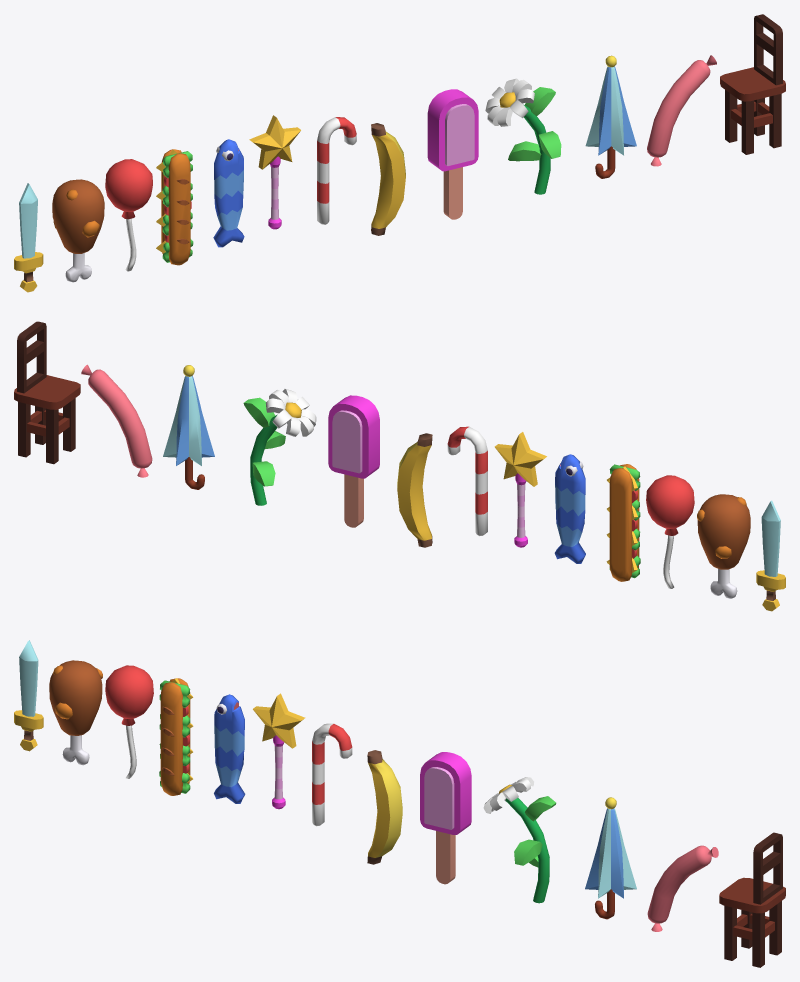
File: FunnyWeaponSet.fbx
The picture shows the model from 3 angles, top to bottom: view 1: azimuth 30°, elevation 25°; view 2: azimuth 150°, elevation 25°; view 3: azimuth 330°, elevation 25°; orthographic projection.
Parts seen in each view (by area): view 1: Weapon_Chair, Weapon_IceCream, Weapon_Daisy, Weapon_Drumstick, Weapon_Sandwich, Weapon_Umbrella, Weapon_Fish, Weapon_Banan, Weapon_Balloon, Weapon_Salami, Weapon_StarWand, Weapon_Sword (+1 smaller); view 2: Weapon_Chair, Weapon_IceCream, Weapon_Drumstick, Weapon_Daisy, Weapon_Sandwich, Weapon_Umbrella, Weapon_Fish, Weapon_Banan, Weapon_Balloon, Weapon_Salami, Weapon_StarWand, Weapon_Sword (+1 smaller); view 3: Weapon_Chair, Weapon_IceCream, Weapon_Drumstick, Weapon_Sandwich, Weapon_Umbrella, Weapon_Daisy, Weapon_Fish, Weapon_Banan, Weapon_Balloon, Weapon_Salami, Weapon_StarWand, Weapon_Sword (+1 smaller).
Boxes of the visible parts, bbox=[...] form: Weapon_Chair: bbox=[720, 14, 785, 154]; Weapon_IceCream: bbox=[427, 89, 478, 219]; Weapon_Daisy: bbox=[485, 78, 561, 194]; Weapon_Drumstick: bbox=[52, 179, 104, 282]; Weapon_Sandwich: bbox=[156, 149, 193, 265]; Weapon_Umbrella: bbox=[585, 55, 636, 178]; Weapon_Fish: bbox=[213, 139, 244, 247]; Weapon_Banan: bbox=[371, 123, 405, 235]; Weapon_Balloon: bbox=[105, 159, 152, 271]; Weapon_Salami: bbox=[647, 55, 716, 166]; Weapon_StarWand: bbox=[249, 115, 300, 229]; Weapon_Sword: bbox=[14, 183, 43, 292]; Weapon_Chair: bbox=[14, 321, 80, 464]; Weapon_IceCream: bbox=[328, 395, 379, 527]; Weapon_Drumstick: bbox=[697, 494, 750, 598]; Weapon_Daisy: bbox=[243, 389, 316, 505]; Weapon_Sandwich: bbox=[606, 464, 640, 581]; Weapon_Umbrella: bbox=[163, 365, 214, 489]; Weapon_Fish: bbox=[554, 454, 585, 563]; Weapon_Banan: bbox=[397, 433, 432, 547]; Weapon_Balloon: bbox=[646, 475, 694, 588]; Weapon_Salami: bbox=[81, 364, 152, 477]; Weapon_StarWand: bbox=[494, 432, 546, 547]; Weapon_Sword: bbox=[756, 500, 785, 611]; Weapon_Chair: bbox=[719, 832, 785, 967]; Weapon_IceCream: bbox=[420, 752, 471, 884]; Weapon_Drumstick: bbox=[49, 660, 102, 765]; Weapon_Sandwich: bbox=[159, 678, 193, 795]; Weapon_Umbrella: bbox=[585, 797, 636, 919]; Weapon_Daisy: bbox=[483, 777, 556, 903]; Weapon_Fish: bbox=[214, 694, 245, 803]; Weapon_Banan: bbox=[367, 750, 402, 864]; Weapon_Balloon: bbox=[105, 665, 153, 778]; Weapon_Salami: bbox=[647, 845, 718, 931]; Weapon_StarWand: bbox=[253, 693, 305, 809]; Weapon_Sword: bbox=[14, 640, 43, 751].
Bounding box in the file's own units: 15390 × 2688 × 1216.
